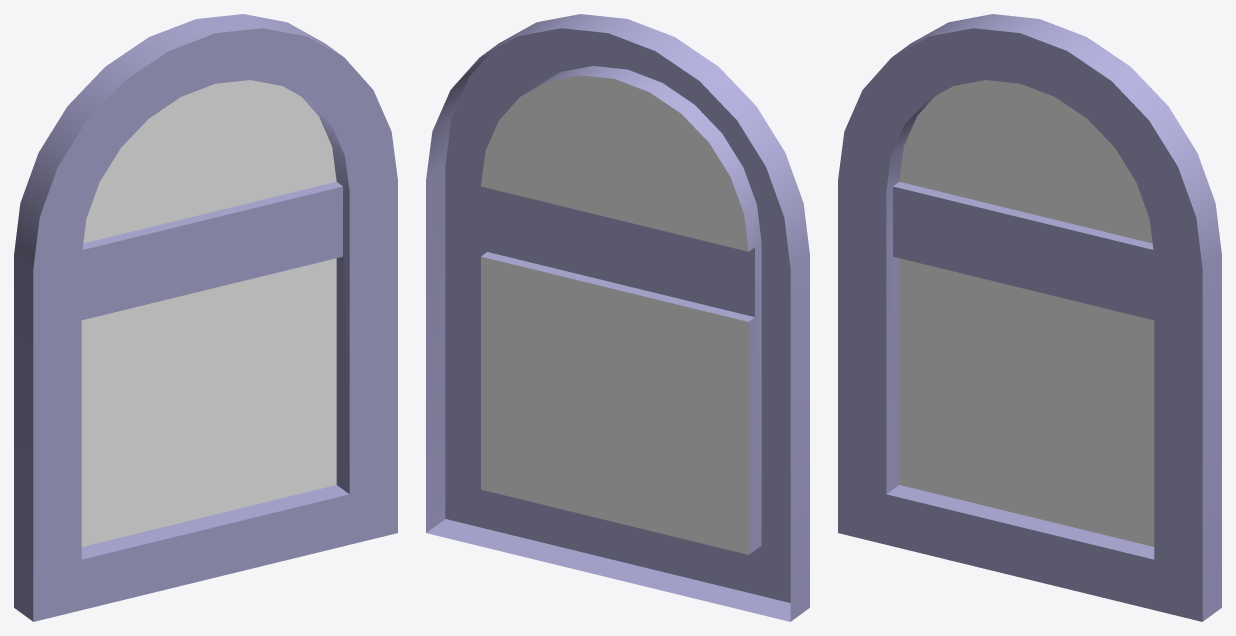
File: window7.obj
3 renders of one model, left to right at view 1: azimuth 30°, elevation 25°; view 2: azimuth 150°, elevation 25°; view 3: azimuth 330°, elevation 25°, orthographic.
Visible parts, largest first — view 1: mergedBlocks; view 2: mergedBlocks; view 3: mergedBlocks.
Boxes of the visible parts, box(x1,y1,x2,y2) form: mergedBlocks: box(14, 14, 397, 621); mergedBlocks: box(426, 14, 809, 621); mergedBlocks: box(838, 14, 1221, 621).
Bounding box in the file's own units: 0.326 × 0.4654 × 0.03.
